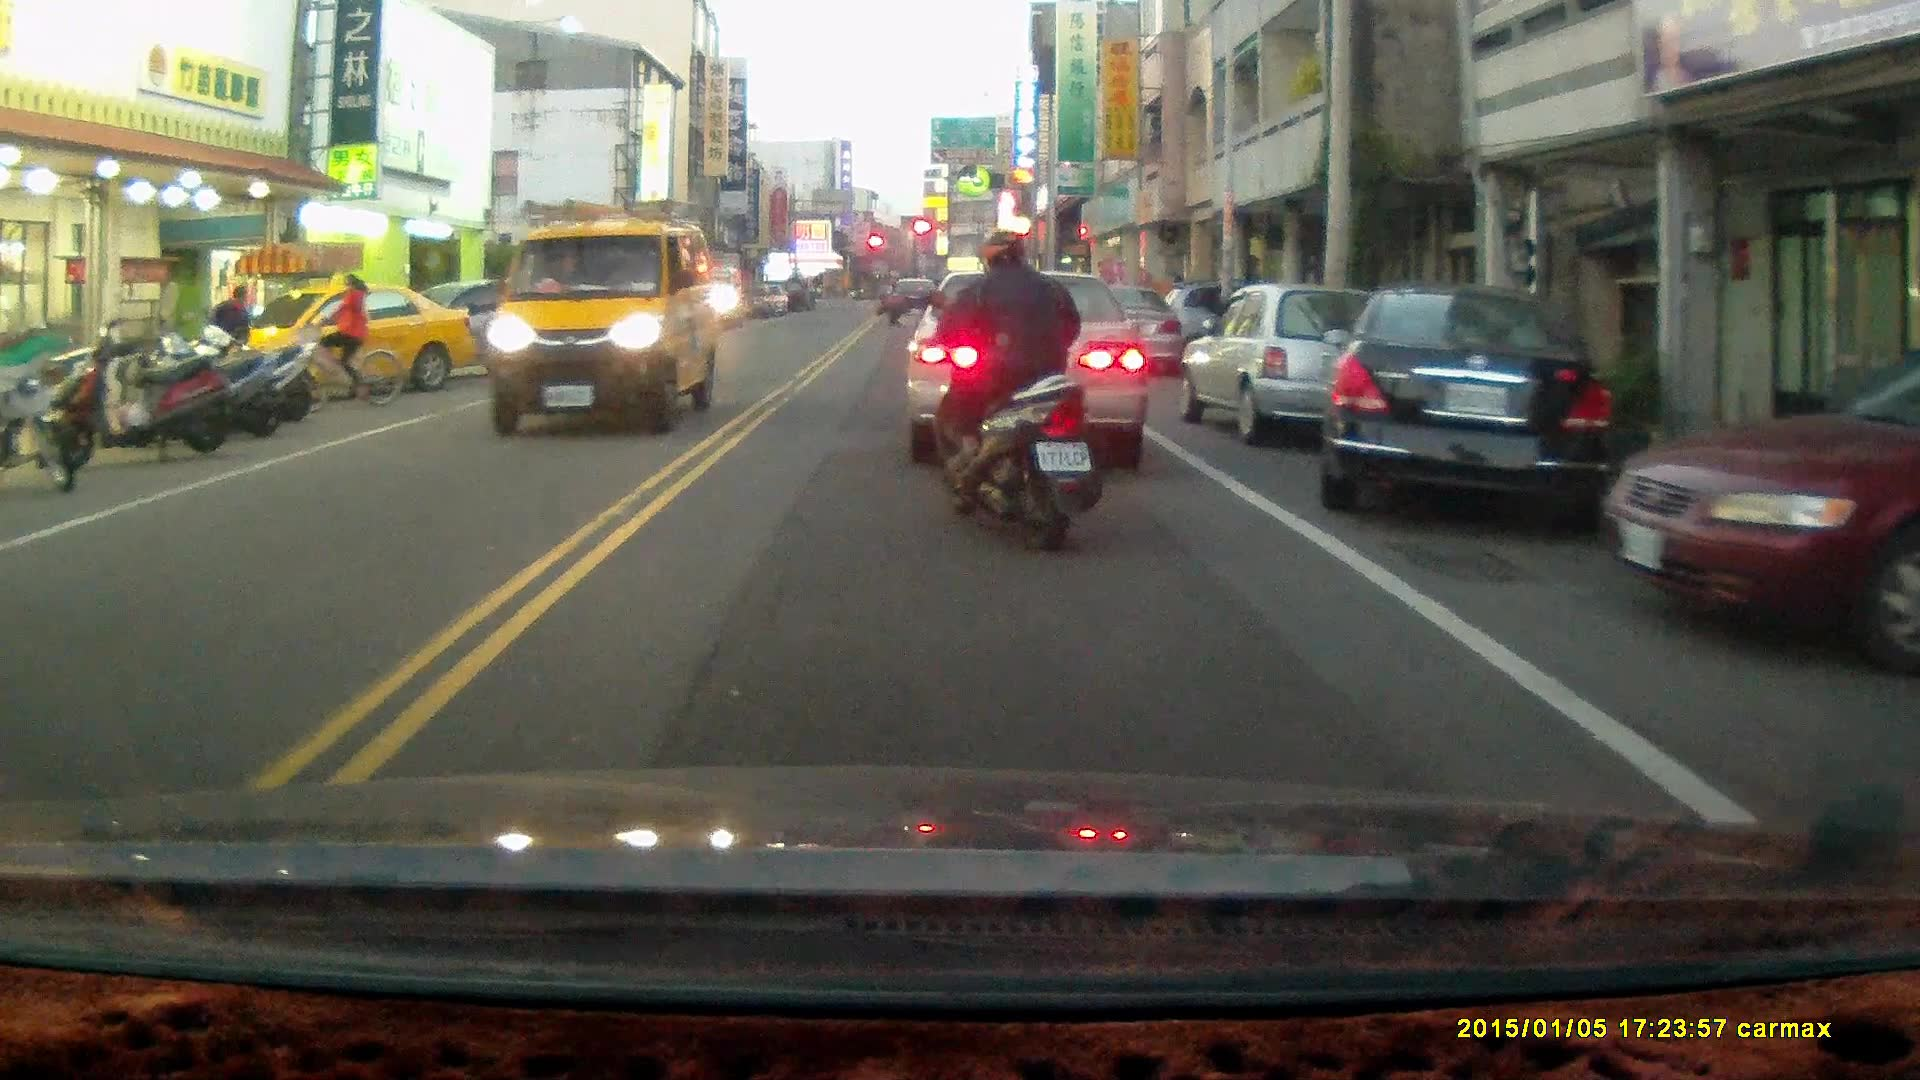pedestrian: (208, 283, 253, 384)
rider: (923, 223, 1099, 553), (290, 270, 400, 410)
vehicle: (1589, 339, 1920, 671), (1325, 285, 1617, 539), (485, 201, 724, 438), (910, 270, 1162, 468), (1173, 277, 1419, 449), (236, 288, 480, 401), (694, 268, 746, 331)
